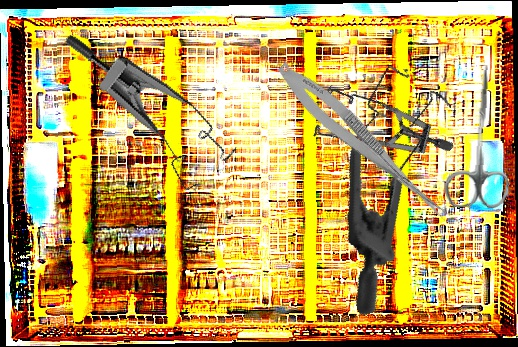Iris Scissors: (443, 63, 516, 210)
Micro Scissor: (269, 56, 460, 228)
Speculum: (282, 49, 509, 318), (29, 30, 253, 204), (296, 50, 455, 212)
